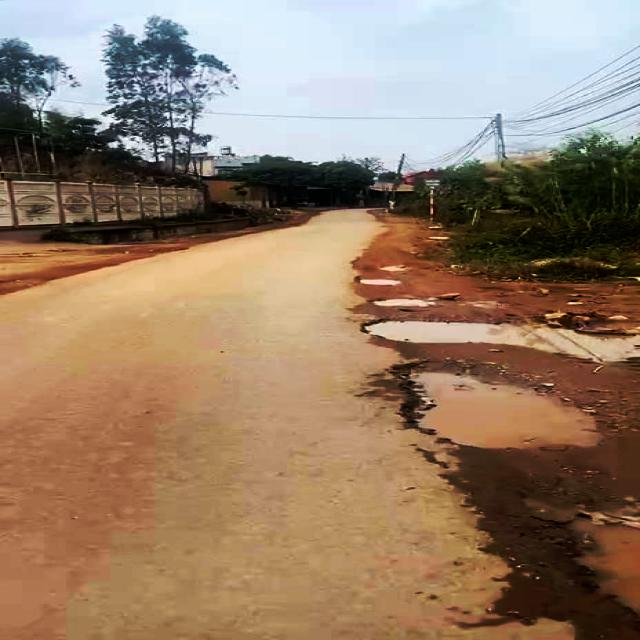pothole: (392, 358, 601, 448), (532, 489, 640, 629), (364, 311, 640, 364)
